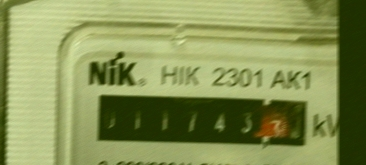0: (102, 104, 116, 131)
1: (129, 104, 143, 132), (157, 105, 170, 133)
3: (238, 109, 252, 136), (267, 119, 282, 140)
4: (212, 110, 226, 135)
7: (184, 108, 198, 133)
screen: (89, 90, 315, 154)
